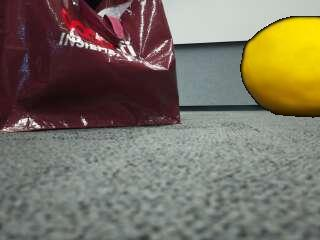lemon: (243, 16, 320, 114)
